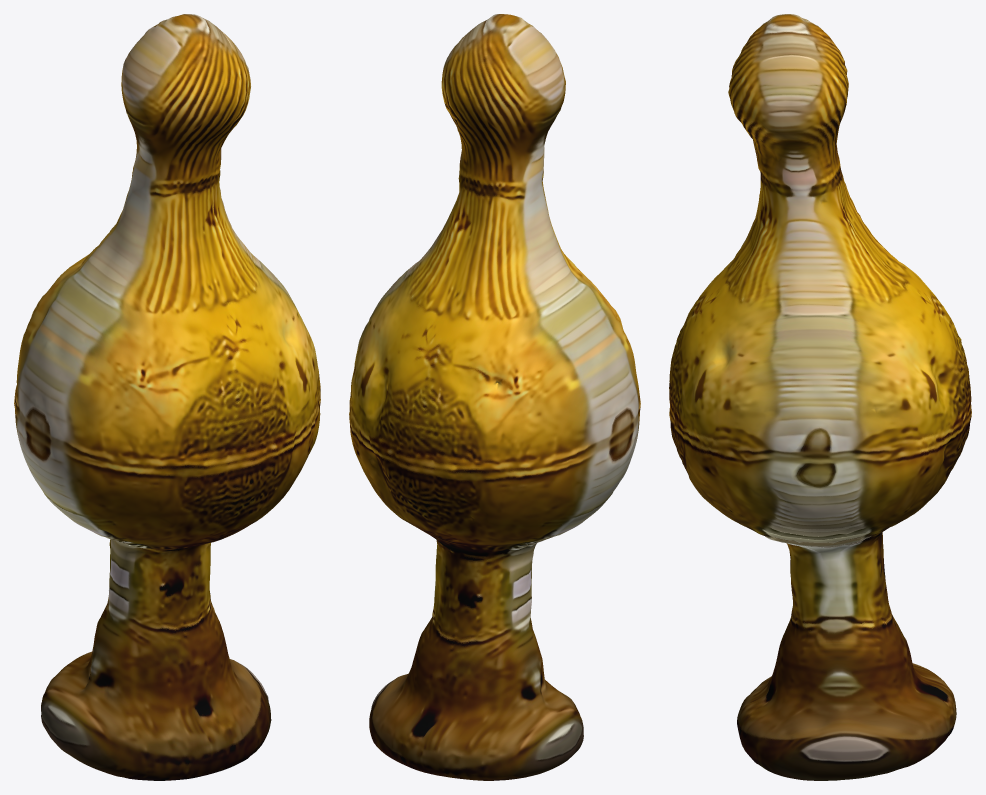
The model's file is kfl-2290.glb.
3 views of the same model, side by side, from view 1: azimuth 30°, elevation 25°; view 2: azimuth 150°, elevation 25°; view 3: azimuth 270°, elevation 25° (orthographic). The views are drawn at different scales.
Parts seen in each view (by area): view 1: kfl-2290; view 2: kfl-2290; view 3: kfl-2290.
Part boxes in pixels (x1,y1,x2,y2): kfl-2290: [14, 14, 320, 780]; kfl-2290: [349, 14, 640, 780]; kfl-2290: [669, 14, 971, 780].
Bounding box in the file's own units: 0.3721 × 0.9962 × 0.3739.
1 material, 1 textured.
